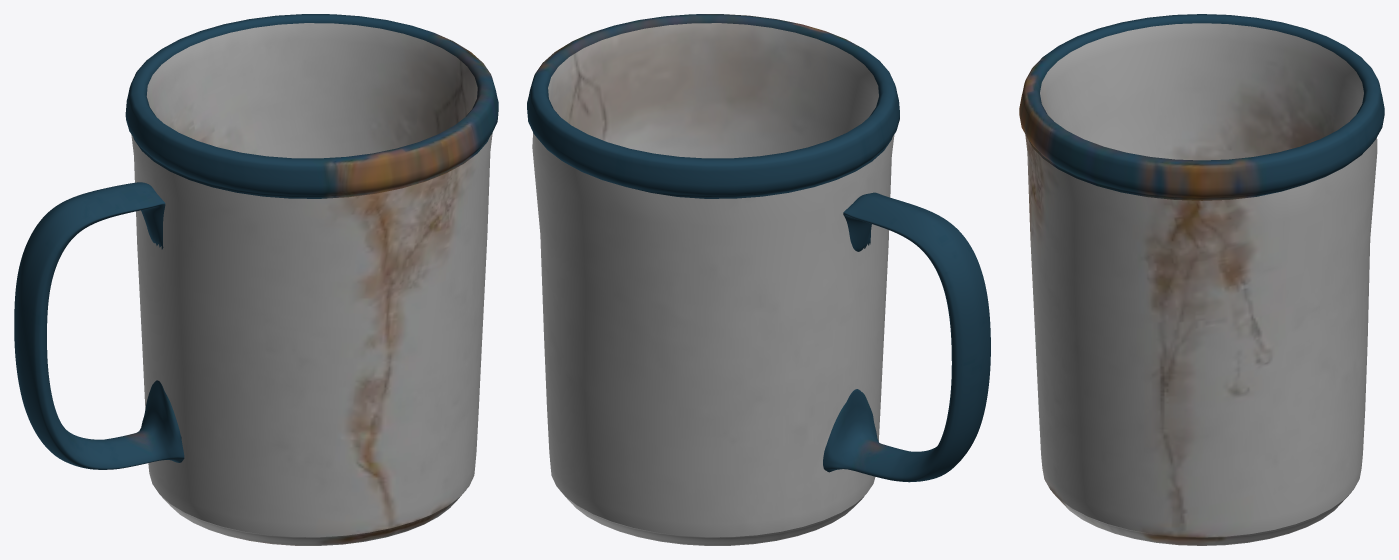
The model's file is ccup-opt.glb.
3 renders of one model, left to right at view 1: azimuth 30°, elevation 25°; view 2: azimuth 150°, elevation 25°; view 3: azimuth 270°, elevation 25°, orthographic.
Parts seen in each view (by area): view 1: defaultMaterial; view 2: defaultMaterial; view 3: defaultMaterial.
Boxes of the visible parts, x1,y1,x2,y2 form: defaultMaterial: (14, 14, 498, 545); defaultMaterial: (527, 14, 990, 545); defaultMaterial: (1019, 14, 1384, 545).
Bounding box in the file's own units: 2 × 1.71 × 1.43.
Materials: 1 (1 with a texture image).
